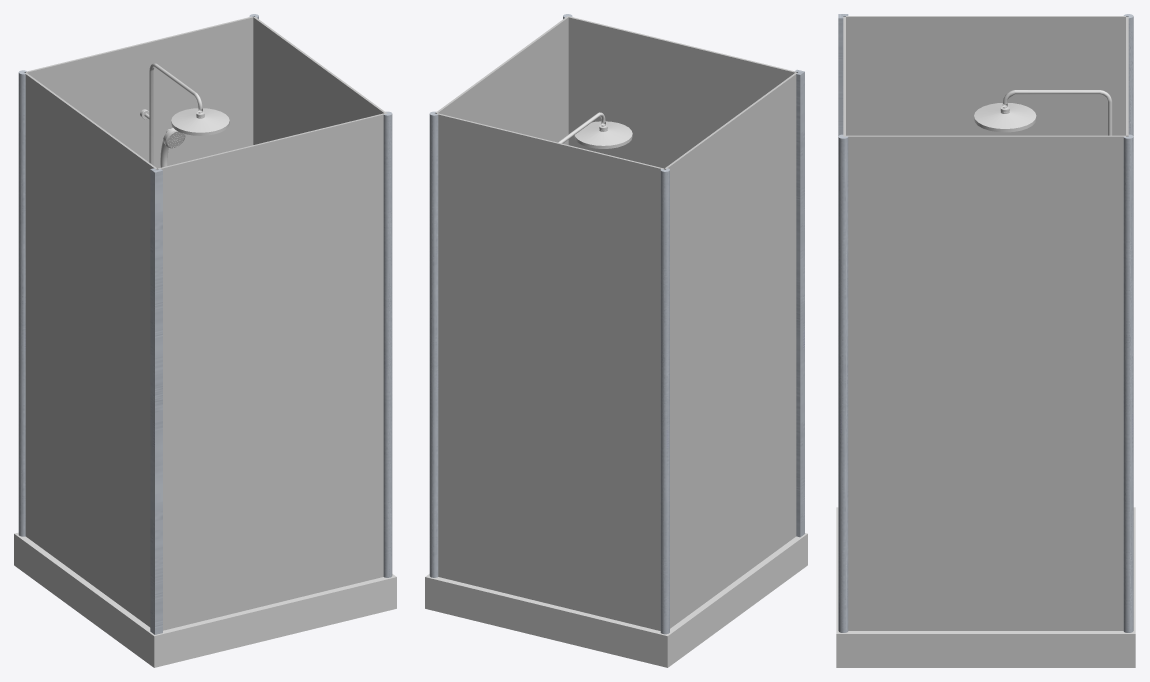
File: shower_small.glb
The picture shows the model from 3 angles, left to right: view 1: azimuth 30°, elevation 25°; view 2: azimuth 150°, elevation 25°; view 3: azimuth 270°, elevation 25°; orthographic projection. The views are drawn at different scales.
Parts seen in each view (by area): view 1: Geom3D (×2), Geom3D_Shower tray (×3), Geom3D_ (×2); view 2: Geom3D (×2), Geom3D_Shower tray (×3), Geom3D_; view 3: Geom3D (×2), Geom3D_Shower tray (×2), Geom3D_ (×2).
Boxes of the visible parts, x1,y1,x2,y2 form: Geom3D (×2): (18,14,392,634); Geom3D_Shower tray (×3): (14,532,396,667); Geom3D_ (×2): (149,63,229,165); Geom3D (×2): (429,14,804,634); Geom3D_Shower tray (×3): (425,533,807,667); Geom3D_: (575,121,632,145); Geom3D (×2): (838,14,1133,632); Geom3D_Shower tray (×2): (836,570,1135,667); Geom3D_ (×2): (974,90,1112,135).
Size of the model in its own units: 1.2 by 2.33 by 1.2.
Materials: 3 (2 with a texture image).
